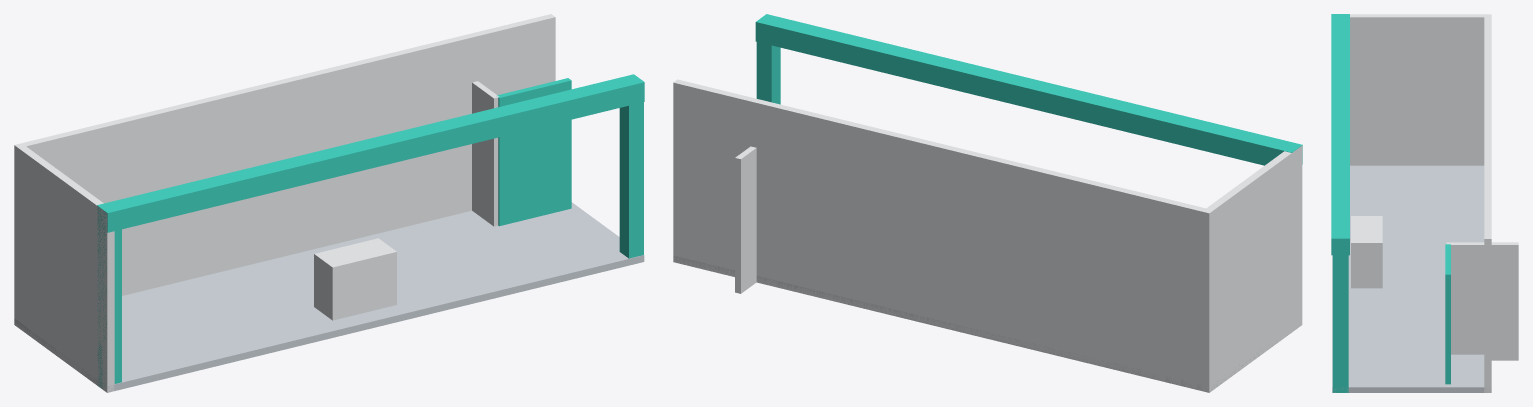
3 renders of one model, left to right at view 1: azimuth 30°, elevation 25°; view 2: azimuth 150°, elevation 25°; view 3: azimuth 270°, elevation 25°, orthographic. The views are drawn at different scales.
Visible parts, largest first — view 1: Exhibition Booth Concept; view 2: Exhibition Booth Concept; view 3: Exhibition Booth Concept.
Boxes of the visible parts, x1,y1,x2,y2 form: Exhibition Booth Concept: [14, 14, 644, 392]; Exhibition Booth Concept: [673, 14, 1302, 392]; Exhibition Booth Concept: [1331, 14, 1518, 392].
Bounding box in the file's own units: 10 × 3.2 × 3.52.
